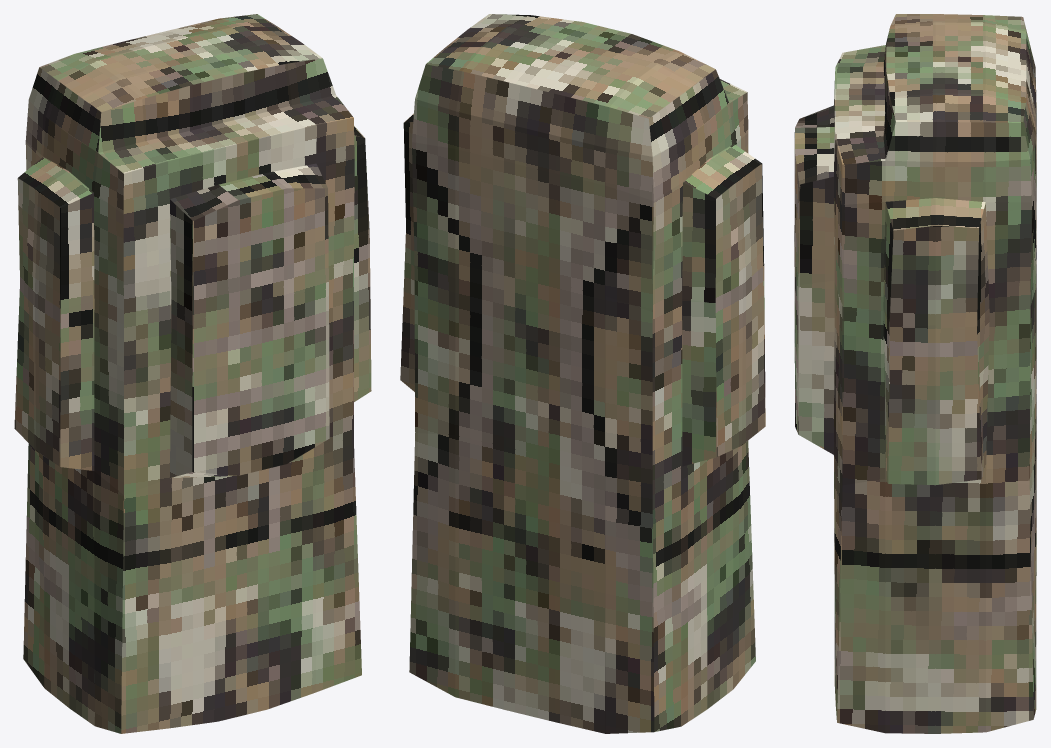
File: large_backpack_1.glb
3 views of the same model, side by side, from view 1: azimuth 30°, elevation 25°; view 2: azimuth 150°, elevation 25°; view 3: azimuth 270°, elevation 25° (orthographic). The views are drawn at different scales.
Visible parts, largest first — view 1: Cube; view 2: Cube; view 3: Cube.
Boxes of the visible parts, x1,y1,x2,y2 form: Cube: (14,14,371,733); Cube: (400,14,765,733); Cube: (794,14,1036,733).
Size of the model in its own units: 0.5748 by 1.08 by 0.384.
1 material, 1 textured.
